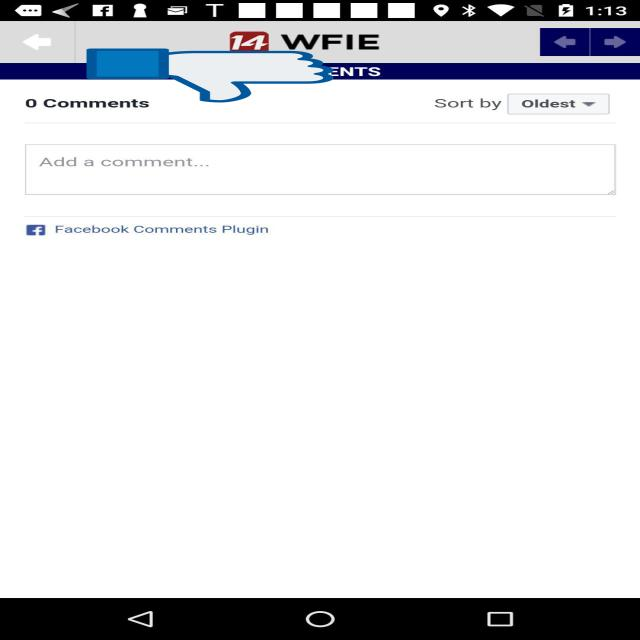obstruction: (86, 47, 334, 104)
